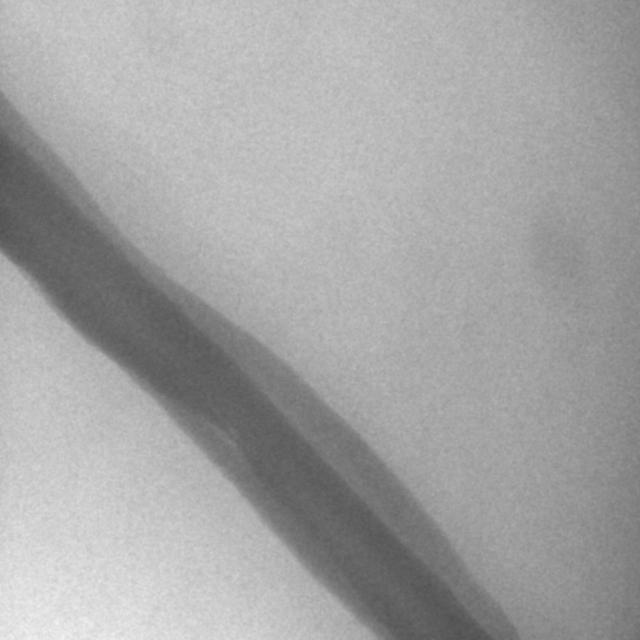unfused: (196, 416, 243, 455)
